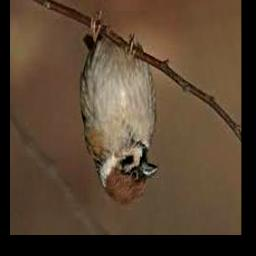Sparrow: (81, 12, 159, 206)
